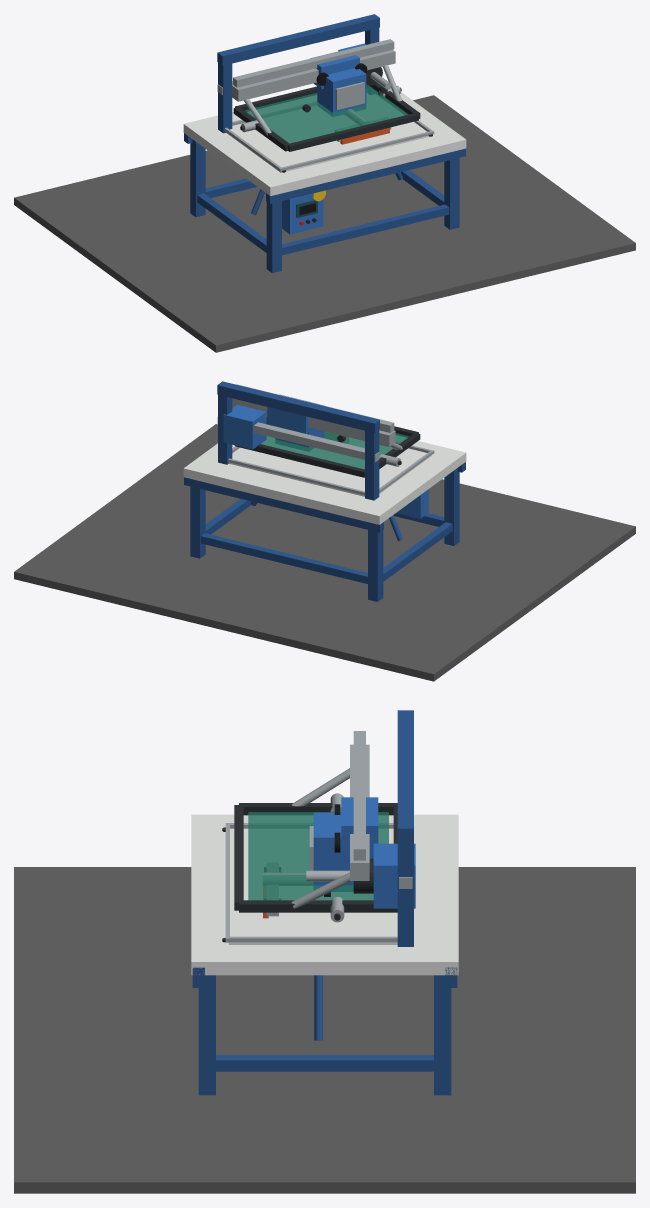
File: alat sablon.glb
3 views of the same model, one above another, from view 1: azimuth 30°, elevation 25°; view 2: azimuth 150°, elevation 25°; view 3: azimuth 270°, elevation 25° (orthographic). The views are drawn at different scales.
Visible parts, largest first — view 1: Floor, Printing Table, Printing Board, Green Screen Mesh, Rear Top Beam, Lower Front Beam, Main Horizontal Rail, Upper Horizontal Rail, Front Blue Table Frame, Blue Print Head Housing, Screen Frame Front, Blue Steel Leg.001 (+12 smaller); view 2: Floor, Printing Table, Printing Board, Rear Top Beam, Lower Rear Beam, Rear Blue Table Frame, Rear Motor Housing, Green Screen Mesh, Rear Middle Beam, Blue Steel Leg.002, Main Horizontal Rail, Blue Steel Leg.001 (+9 smaller); view 3: Floor, Printing Table, Printing Board, Green Screen Mesh, Right Lower Beam, Rear Top Beam, Blue Steel Leg, Blue Steel Leg.003, Blue Print Head Housing, Rear Motor Housing, Upper Horizontal Rail, Screen Frame Right (+6 smaller).
Boxes of the visible parts, left/top/right/bottom form: Floor: left=14, top=95, right=635, bottom=352; Printing Table: left=183, top=92, right=466, bottom=195; Printing Board: left=226, top=93, right=429, bottom=172; Green Screen Mesh: left=244, top=84, right=408, bottom=143; Rear Top Beam: left=217, top=14, right=379, bottom=65; Lower Front Beam: left=282, top=204, right=449, bottom=255; Main Horizontal Rail: left=231, top=49, right=395, bottom=101; Upper Horizontal Rail: left=233, top=39, right=394, bottom=87; Front Blue Table Frame: left=266, top=148, right=465, bottom=203; Blue Print Head Housing: left=317, top=68, right=366, bottom=116; Screen Frame Front: left=288, top=113, right=418, bottom=151; Blue Steel Leg.001: left=266, top=201, right=281, bottom=273; Floor: left=14, top=424, right=635, bottom=681; Printing Table: left=183, top=436, right=466, bottom=524; Printing Board: left=228, top=436, right=431, bottom=496; Rear Top Beam: left=217, top=381, right=379, bottom=432; Lower Rear Beam: left=200, top=533, right=367, bottom=583; Rear Blue Table Frame: left=184, top=477, right=383, bottom=532; Rear Motor Housing: left=223, top=404, right=266, bottom=449; Green Screen Mesh: left=261, top=431, right=409, bottom=469; Rear Middle Beam: left=217, top=417, right=379, bottom=462; Blue Steel Leg.002: left=368, top=530, right=383, bottom=601; Main Horizontal Rail: left=232, top=398, right=395, bottom=446; Blue Steel Leg.001: left=444, top=468, right=459, bottom=545; Floor: left=14, top=867, right=635, bottom=1193; Printing Table: left=191, top=814, right=458, bottom=975; Printing Board: left=228, top=828, right=397, bottom=944; Green Screen Mesh: left=248, top=812, right=388, bottom=900; Right Lower Beam: left=216, top=1055, right=433, bottom=1071; Rear Top Beam: left=397, top=710, right=413, bottom=843; Blue Steel Leg: left=434, top=975, right=451, bottom=1095; Blue Steel Leg.003: left=198, top=975, right=215, bottom=1095; Blue Print Head Housing: left=313, top=812, right=353, bottom=891; Rear Motor Housing: left=373, top=843, right=415, bottom=908; Upper Horizontal Rail: left=353, top=731, right=365, bottom=860; Screen Frame Right: left=239, top=900, right=397, bottom=912.
Bounding box in the file's own units: 6 × 2.37 × 5.
